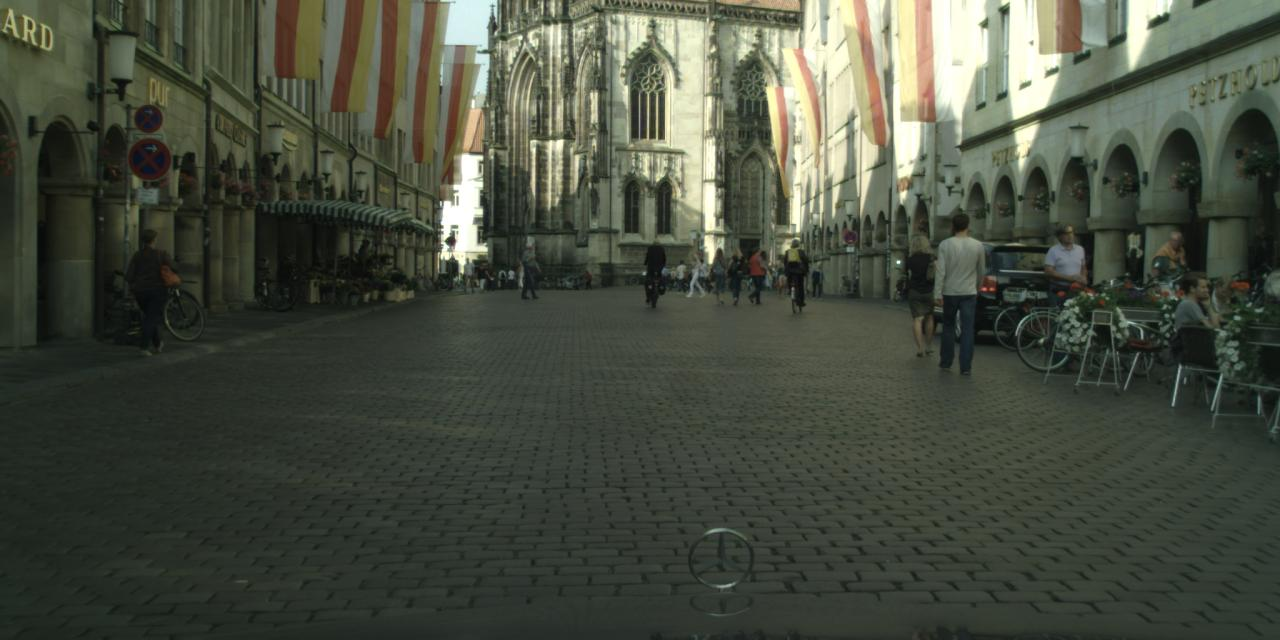ped: (924, 212, 989, 371), (1033, 221, 1093, 369), (127, 228, 177, 352), (898, 235, 946, 354), (1153, 230, 1195, 336), (783, 238, 808, 300), (643, 238, 667, 297), (518, 242, 541, 298), (724, 246, 747, 302), (708, 247, 731, 302), (744, 246, 766, 302), (354, 238, 374, 288), (686, 252, 703, 296), (774, 256, 790, 298), (810, 261, 826, 300), (762, 258, 778, 292), (460, 257, 474, 291), (674, 259, 688, 293), (696, 258, 710, 291), (749, 256, 762, 288), (474, 261, 486, 291), (514, 260, 526, 290), (709, 263, 720, 293), (660, 264, 670, 290), (485, 262, 494, 287), (668, 266, 677, 290), (498, 266, 507, 289), (506, 266, 515, 289), (583, 270, 591, 289)
